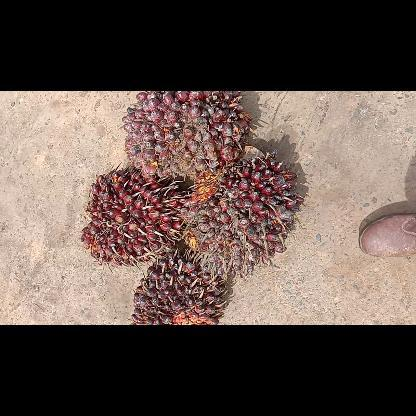Kurang masak: (175, 141, 305, 280), (78, 160, 188, 268)
TBS mentah: (122, 90, 250, 180), (130, 248, 230, 324)
